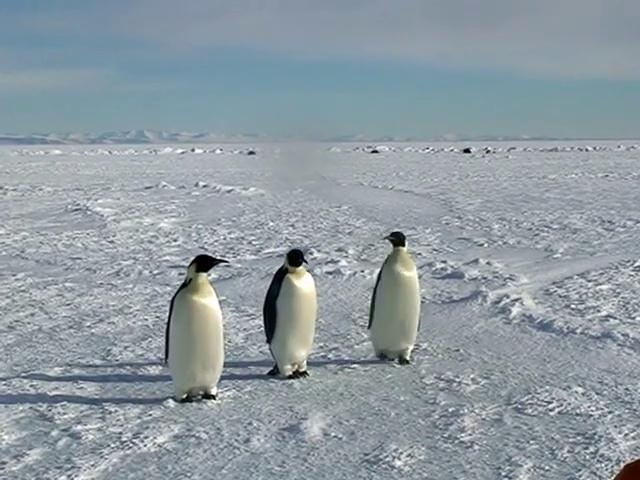animal: (369, 232, 421, 364)
